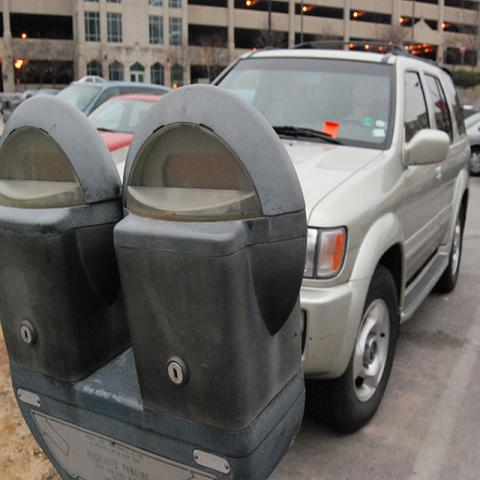car: (172, 52, 468, 438), (88, 89, 162, 165), (47, 77, 174, 116), (466, 111, 479, 175)
